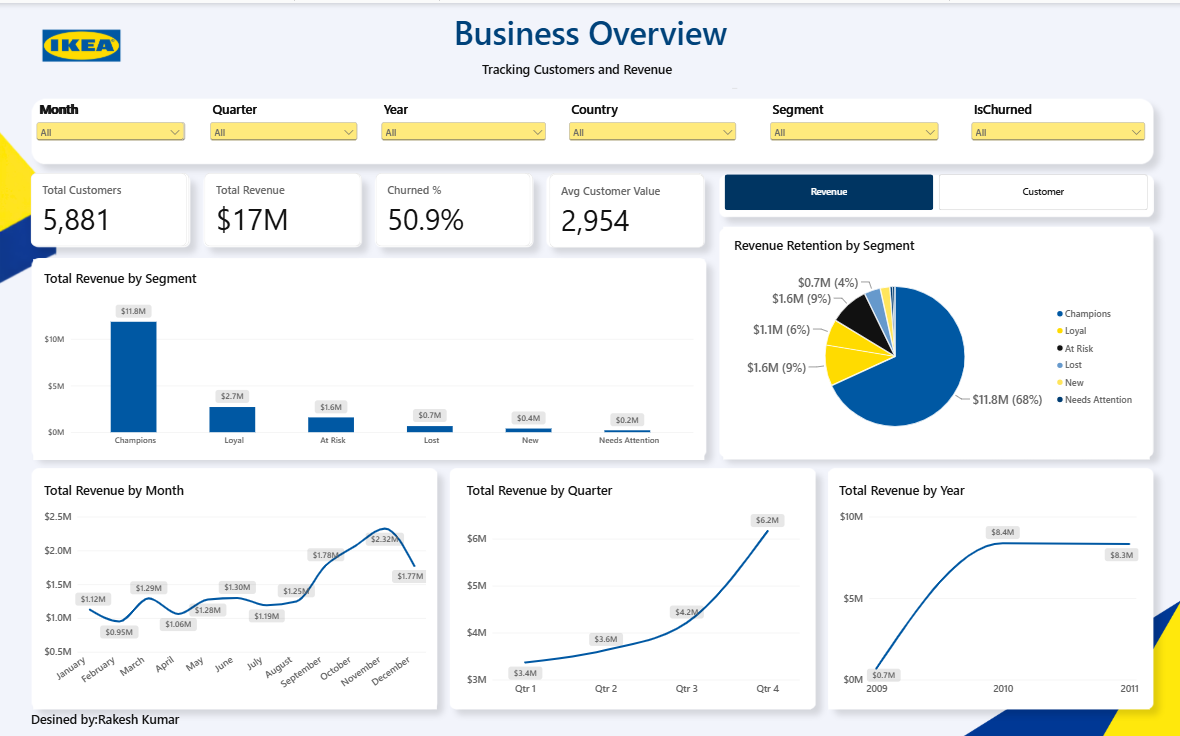

What the dashboard file says about the page in this screenshot:
{"tool":"powerbi","page":{"name":"Overview","canvas":[1750,1100],"ordinal":1},"visuals":[{"type":"cardVisual","fields":{"Data":["Sheet1.Total Customers"]},"box":[53.5,250.7,230.4,108.7],"z":0},{"type":"columnChart","fields":{"Category":["Sheet1.Segment"],"Y":["Sheet1.Total Revenue"]},"box":[53.2,376.4,989.3,295.6],"z":0,"group":"g1"},{"type":"cardVisual","fields":{"Data":["Sheet1.Total Revenue"]},"box":[307.4,250.3,230.6,108.4],"z":1000},{"type":"pieChart","title":"Revenue Retention by Segment","fields":{"Category":["Sheet1.Segment"],"Series":["Sheet1.IsChurned"],"Y":["Sheet1.Total Revenue"]},"box":[1070.1,329.1,628.7,342.9],"z":1000,"group":"g1"},{"type":"cardVisual","fields":{"Data":["Sheet1.Churned %"]},"box":[561.7,250.3,228.6,108.4],"z":2000},{"type":"lineChart","fields":{"Category":["Sheet1.InvoiceMonth.Variation.Date Hierarchy.Month"],"Y":["Sheet1.Total Revenue"]},"box":[53.4,691.2,595.3,350.2],"z":2000,"group":"g1"},{"type":"cardVisual","fields":{"Data":["Sheet1.Avg Customer Value"]},"box":[813.9,250.3,228.6,108.4],"z":3000},{"type":"lineChart","fields":{"Category":["Sheet1.InvoiceMonth.Variation.Date Hierarchy.Quarter"],"Y":["Sheet1.Total Revenue"]},"box":[676.4,691.2,523.5,350.2],"z":3000,"group":"g1"},{"type":"slicer","fields":{"Values":["Sheet1.InvoiceDate.Variation.Date Hierarchy.Month"]},"box":[55.3,143.8,226.7,94],"z":4000},{"type":"lineChart","fields":{"Category":["Sheet1.InvoiceMonth.Variation.Date Hierarchy.Year"],"Y":["Sheet1.Total Revenue"]},"box":[1225.7,691.2,473.7,350.2],"z":4000,"group":"g1"},{"type":"slicer","fields":{"Values":["Sheet1.InvoiceDate.Variation.Date Hierarchy.Quarter"]},"box":[309.7,143.8,226.7,94],"z":5000},{"type":"slicer","fields":{"Values":["Sheet1.InvoiceDate.Variation.Date Hierarchy.Year"]},"box":[562.2,143.8,252.5,94],"z":6000},{"type":"slicer","fields":{"Values":["Sheet1.Country"]},"box":[838.6,143.8,256.2,94],"z":7000},{"type":"slicer","fields":{"Values":["Sheet1.Segment"]},"box":[1135.4,143.8,258,94],"z":8000},{"type":"slicer","fields":{"Values":["Sheet1.IsChurned"]},"box":[1432.1,143.8,265.4,94],"z":9000},{"type":"slicer","fields":{"Values":["Sheet1.InvoiceDate.Variation.Date Hierarchy.Month"]},"box":[54.4,143.5,227.7,106.4],"z":10000},{"type":"cardVisual","fields":{"Data":["Sheet1.Total Customers"]},"box":[49.3,250.3,230.4,108.7],"z":11000},{"type":"cardVisual","fields":{"Data":["Sheet1.Total Revenue"]},"box":[305.5,250.3,230.6,108.4],"z":12000},{"type":"cardVisual","fields":{"Data":["Sheet1.Churned %"]},"box":[557.7,250.3,228.6,108.4],"z":13000},{"type":"cardVisual","fields":{"Data":["Sheet1.Avg Customer Value"]},"box":[813.9,252.3,228.6,108.4],"z":14000},{"type":"slicer","fields":{"Values":["Sheet1.InvoiceDate.Variation.Date Hierarchy.Month"]},"box":[53.2,143.9,226.7,94],"z":15000},{"type":"slicer","fields":{"Values":["Sheet1.InvoiceDate.Variation.Date Hierarchy.Quarter"]},"box":[309.4,143.9,226.7,94],"z":16000},{"type":"slicer","fields":{"Values":["Sheet1.InvoiceDate.Variation.Date Hierarchy.Year"]},"box":[561.7,143.9,252.5,94],"z":17000},{"type":"slicer","fields":{"Values":["Sheet1.Country"]},"box":[839.5,143.9,256.2,94],"z":18000},{"type":"slicer","fields":{"Values":["Sheet1.Segment"]},"box":[1135.1,143.9,258,94],"z":19000},{"type":"slicer","fields":{"Values":["Sheet1.IsChurned"]},"box":[1432.7,143.9,265.4,94],"z":20000},{"type":"group","id":"g1","title":"Revenue","box":[53.2,329.1,1646.2,712.3],"z":22000},{"type":"bookmarkNavigator","box":[1072.7,252.5,624.8,53.5],"z":23000},{"type":"textbox","title":"Desined by:Rakesh Kumar","box":[49.3,1042.5,545.9,39.4],"z":24000},{"type":"image","box":[49.3,0,149.8,126.1],"z":25000},{"type":"textbox","box":[586.3,9.9,577.4,74.9],"z":28000},{"type":"textbox","title":"Tracking Customers and Revenue","box":[715.4,84.7,376.4,41.4],"z":29000}]}

Visuals, with their boxes in screenshot pixels (x1, y1, x2, y2), scaled from the page's 1750x1100 canvas onto the 1180x736 screenshot:
cardVisual - Sheet1.Total Customers: <region>36, 168, 191, 240</region>
columnChart - Sheet1.Segment x Sheet1.Total Revenue: <region>36, 252, 703, 450</region>
cardVisual - Sheet1.Total Revenue: <region>207, 167, 363, 240</region>
"Revenue Retention by Segment" pieChart: <region>722, 220, 1145, 450</region>
cardVisual - Sheet1.Churned %: <region>379, 167, 533, 240</region>
lineChart - Sheet1.InvoiceMonth.Variation.Date Hierarchy.Month x Sheet1.Total Revenue: <region>36, 462, 437, 697</region>
cardVisual - Sheet1.Avg Customer Value: <region>549, 167, 703, 240</region>
lineChart - Sheet1.InvoiceMonth.Variation.Date Hierarchy.Quarter x Sheet1.Total Revenue: <region>456, 462, 809, 697</region>
slicer - Sheet1.InvoiceDate.Variation.Date Hierarchy.Month: <region>37, 96, 190, 159</region>
lineChart - Sheet1.InvoiceMonth.Variation.Date Hierarchy.Year x Sheet1.Total Revenue: <region>826, 462, 1146, 697</region>
slicer - Sheet1.InvoiceDate.Variation.Date Hierarchy.Quarter: <region>209, 96, 362, 159</region>
slicer - Sheet1.InvoiceDate.Variation.Date Hierarchy.Year: <region>379, 96, 549, 159</region>
slicer - Sheet1.Country: <region>565, 96, 738, 159</region>
slicer - Sheet1.Segment: <region>766, 96, 940, 159</region>
slicer - Sheet1.IsChurned: <region>966, 96, 1145, 159</region>
slicer - Sheet1.InvoiceDate.Variation.Date Hierarchy.Month: <region>37, 96, 190, 167</region>
cardVisual - Sheet1.Total Customers: <region>33, 167, 189, 240</region>
cardVisual - Sheet1.Total Revenue: <region>206, 167, 361, 240</region>
cardVisual - Sheet1.Churned %: <region>376, 167, 530, 240</region>
cardVisual - Sheet1.Avg Customer Value: <region>549, 169, 703, 241</region>
slicer - Sheet1.InvoiceDate.Variation.Date Hierarchy.Month: <region>36, 96, 189, 159</region>
slicer - Sheet1.InvoiceDate.Variation.Date Hierarchy.Quarter: <region>209, 96, 361, 159</region>
slicer - Sheet1.InvoiceDate.Variation.Date Hierarchy.Year: <region>379, 96, 549, 159</region>
slicer - Sheet1.Country: <region>566, 96, 739, 159</region>
slicer - Sheet1.Segment: <region>765, 96, 939, 159</region>
slicer - Sheet1.IsChurned: <region>966, 96, 1145, 159</region>
"Revenue" group: <region>36, 220, 1146, 697</region>
bookmarkNavigator: <region>723, 169, 1145, 205</region>
"Desined by:Rakesh Kumar" textbox: <region>33, 698, 401, 724</region>
image: <region>33, 0, 134, 84</region>
textbox: <region>395, 7, 785, 57</region>
"Tracking Customers and Revenue" textbox: <region>482, 57, 736, 84</region>
